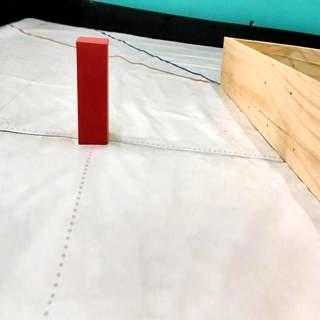redbox: (75, 34, 108, 146)
